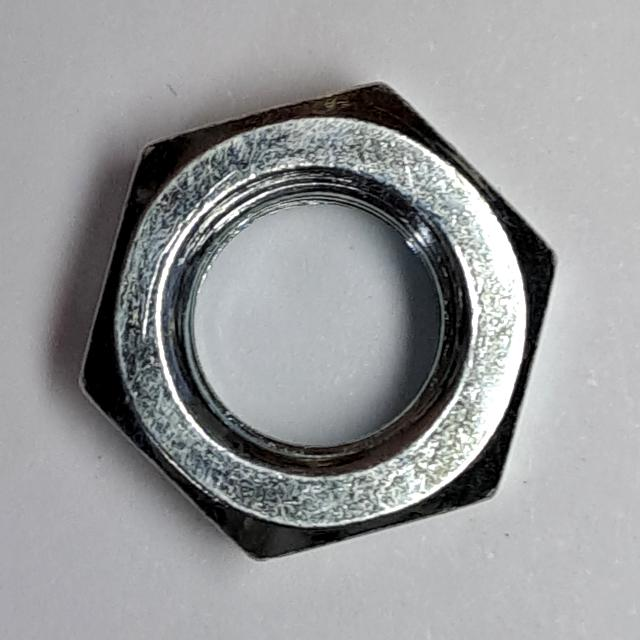Excellent: (70, 68, 570, 578)
